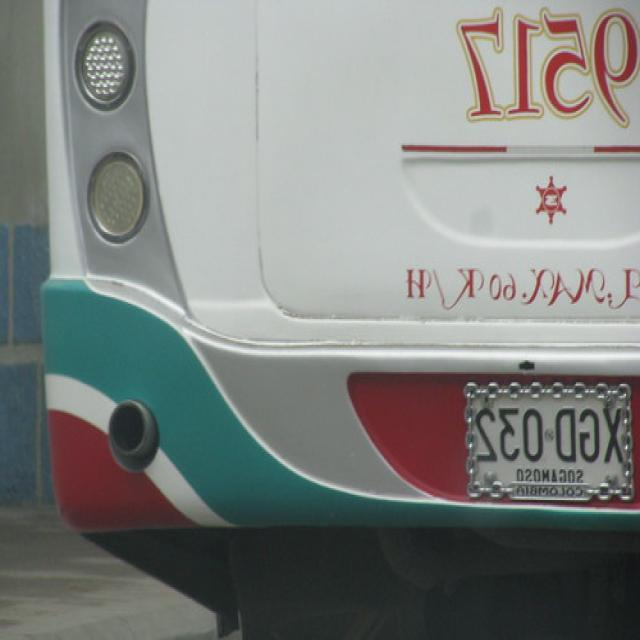placas: (469, 400, 627, 469)
